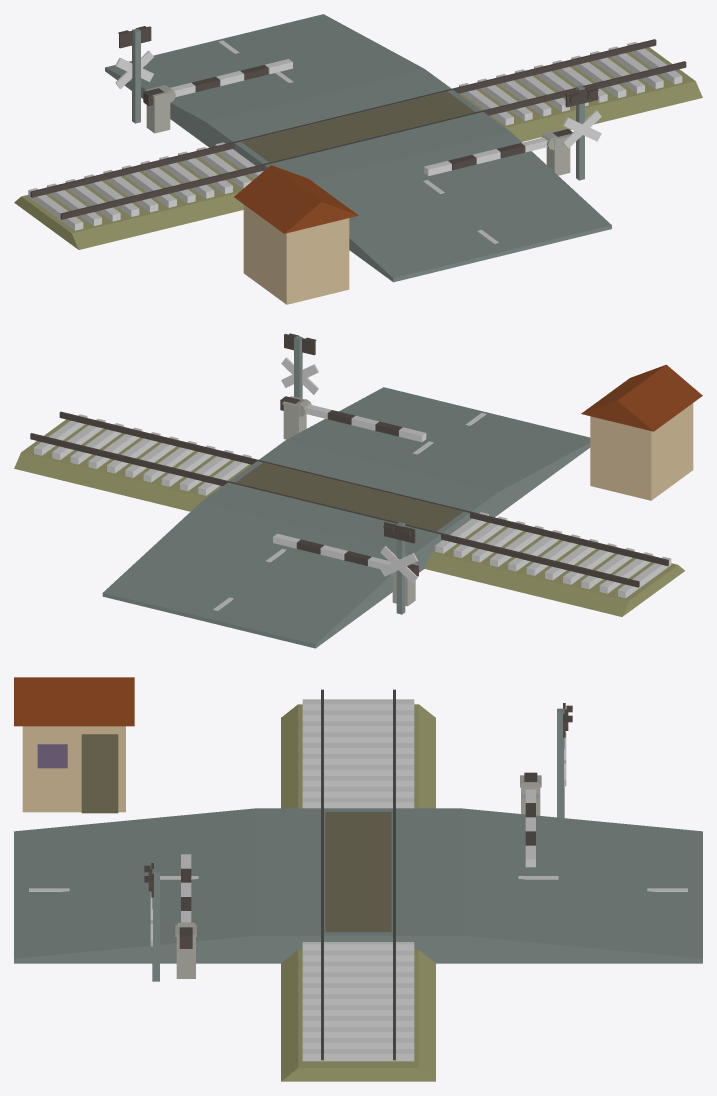
The model's file is SM_PasoNivel_90_v0_Teja_LOD0.fbx.
3 views of the same model, one above another, from view 1: azimuth 30°, elevation 25°; view 2: azimuth 150°, elevation 25°; view 3: azimuth 270°, elevation 25° (orthographic). The views are drawn at different scales.
Visible parts, largest first — view 1: SM_paso_nivel_kit_v0_LOD0, Barrera_2, Barrera_1; view 2: SM_paso_nivel_kit_v0_LOD0, Barrera_1, Barrera_2; view 3: SM_paso_nivel_kit_v0_LOD0, Barrera_2, Barrera_1.
Boxes of the visible parts, left/top/right/bottom form: SM_paso_nivel_kit_v0_LOD0: left=14, top=14, right=702, bottom=304; Barrera_2: left=143, top=59, right=292, bottom=105; Barrera_1: left=424, top=129, right=572, bottom=175; SM_paso_nivel_kit_v0_LOD0: left=14, top=333, right=702, bottom=648; Barrera_1: left=280, top=396, right=426, bottom=442; Barrera_2: left=273, top=533, right=418, bottom=576; SM_paso_nivel_kit_v0_LOD0: left=14, top=677, right=702, bottom=1081; Barrera_2: left=522, top=772, right=539, bottom=867; Barrera_1: left=177, top=854, right=194, bottom=948.
Bounding box in the file's own units: 20 × 3 × 16.
